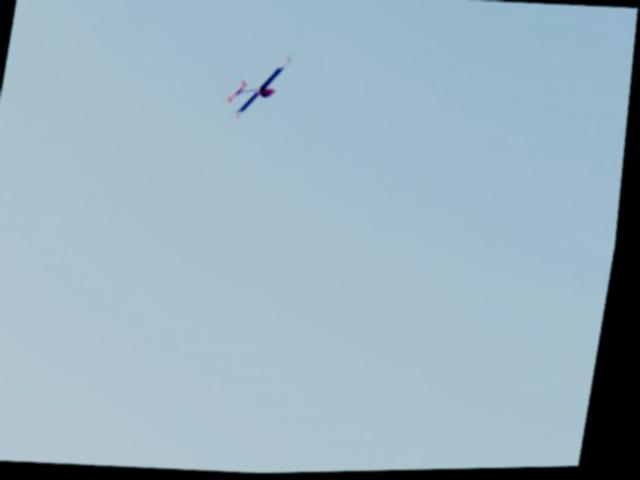uav: (226, 62, 295, 121)
